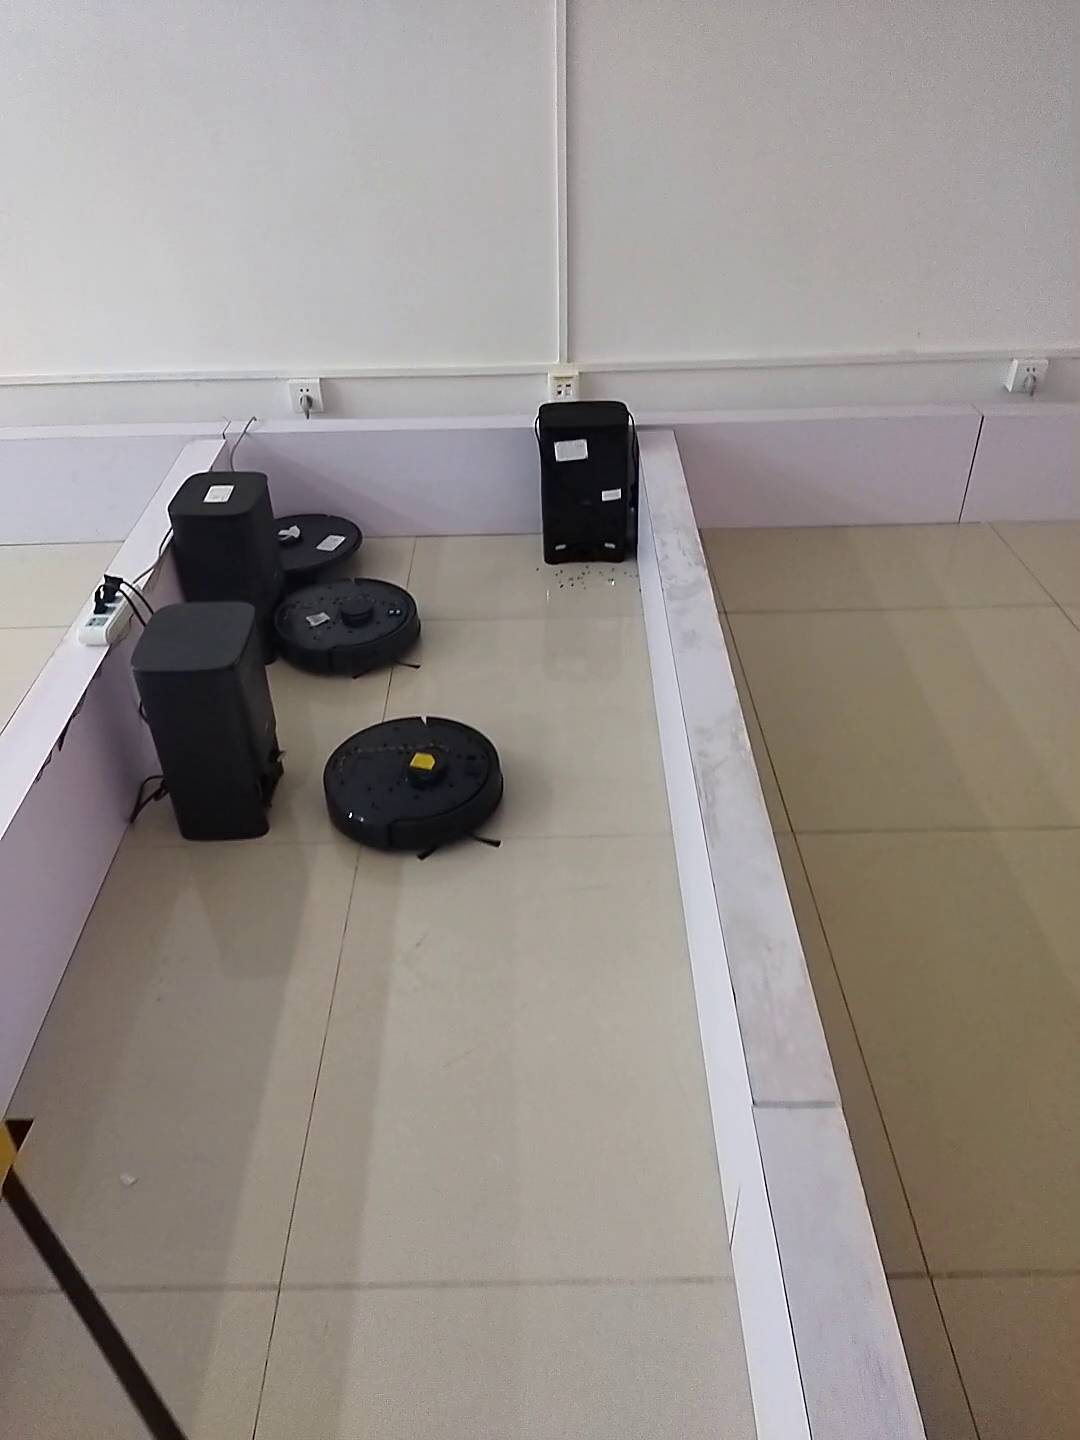dust collecting barrel: (129, 602, 285, 842), (167, 473, 292, 663), (537, 403, 641, 569)
